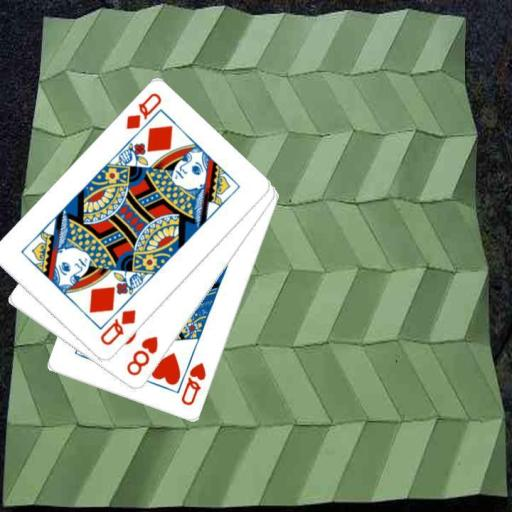card-corner: (122, 90, 164, 132), (97, 306, 138, 348), (123, 334, 160, 378), (178, 360, 208, 407)
